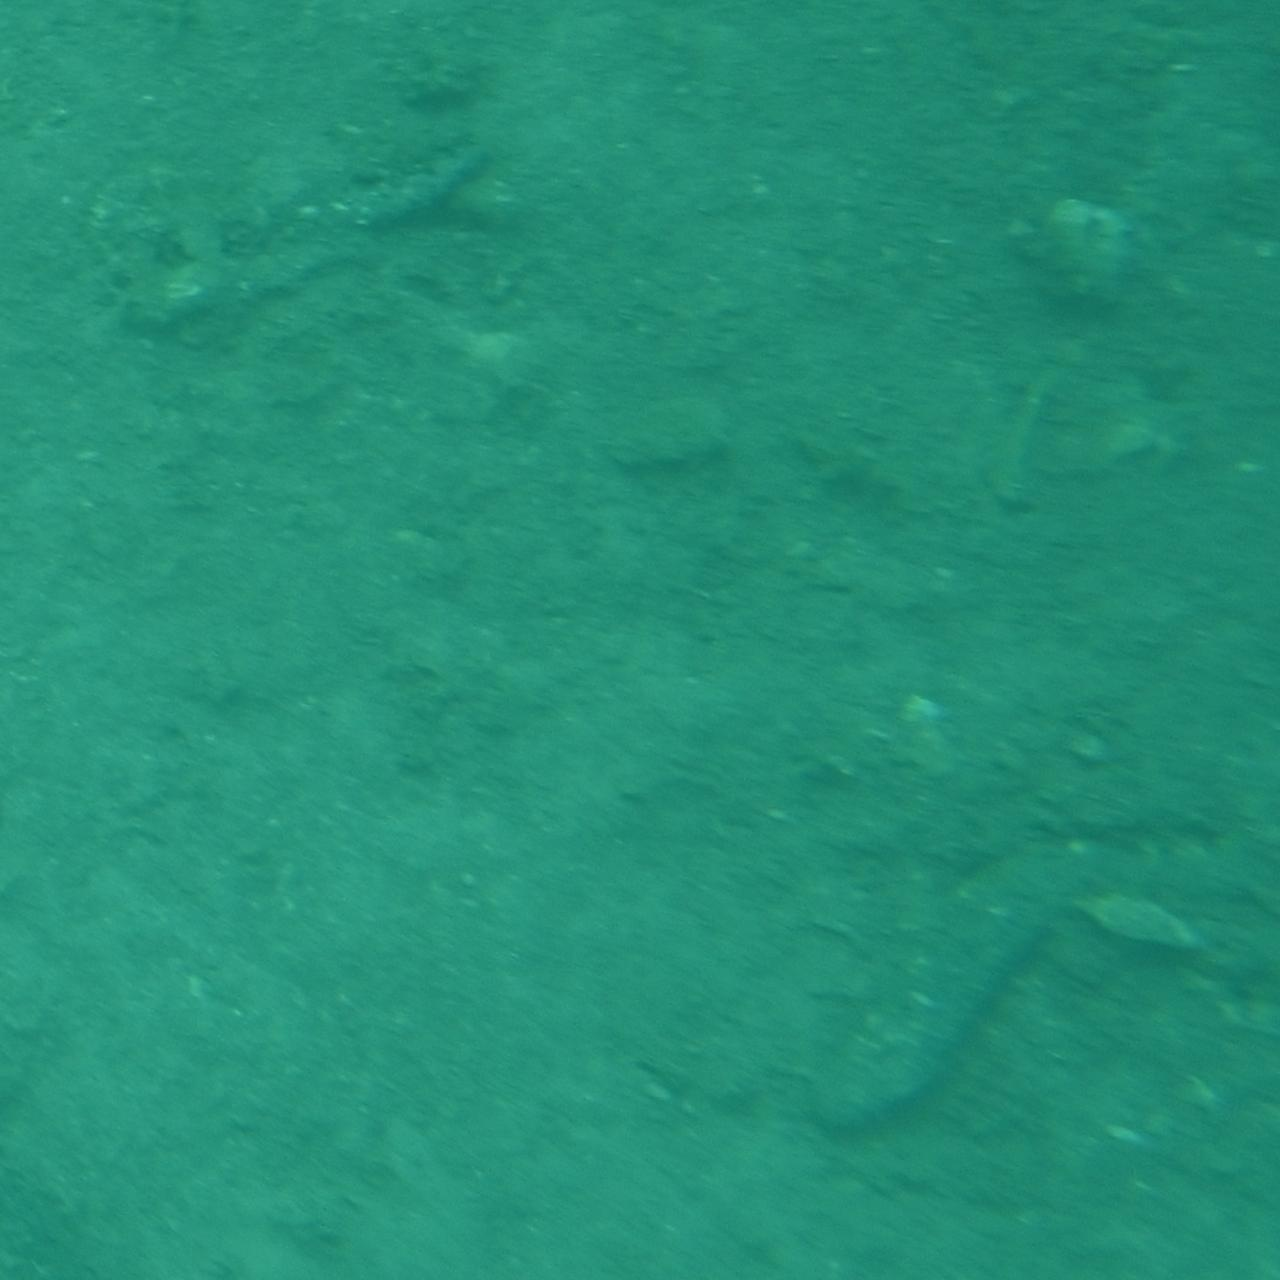Holothuria tubulosa: (98, 132, 543, 387), (824, 896, 1094, 1146)
